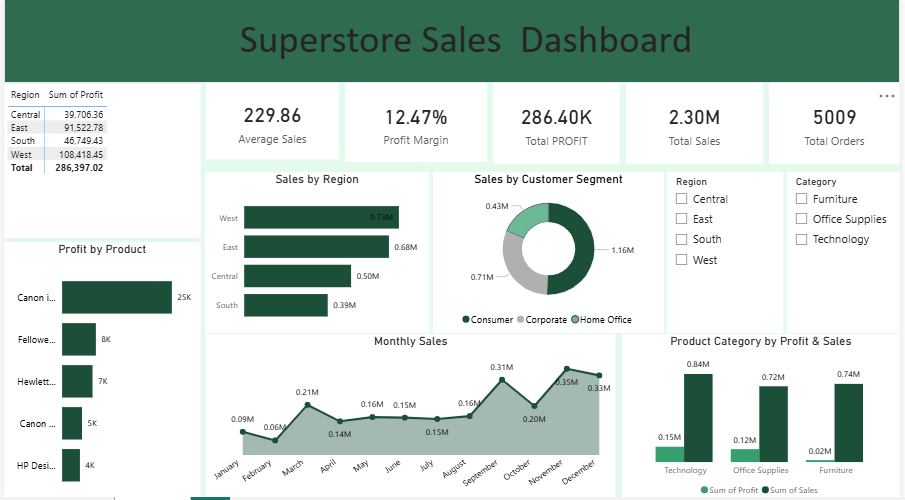

The page's visual inventory and layout, read from the dashboard file:
{"tool":"powerbi","page":{"name":"Page 1","canvas":[1280,720],"ordinal":0},"visuals":[{"type":"card","fields":{"Values":["Sample - Superstore.Total Order Id"]},"box":[1092.8,120.5,187.1,114.8],"z":0},{"type":"card","fields":{"Values":["Sample - Superstore.Total PROFIT"]},"box":[698.7,120.5,181.4,114.8],"z":1000},{"type":"card","fields":{"Values":["Sample - Superstore.Total Sales"]},"box":[888.7,120.5,195.6,114.8],"z":2000},{"type":"lineChart","title":"Monthly Sales ","fields":{"Category":["Sample - Superstore.Order Date.Variation.Date Hierarchy.Month"],"Y":["Sum(Sample - Superstore.Sales)"]},"box":[289.1,479.1,585.4,240.9],"z":3000},{"type":"barChart","title":"Sales by Region","fields":{"Category":["Sample - Superstore.Region"],"Y":["Sum(Sample - Superstore.Sales)"]},"box":[287.7,246.6,320.3,229.6],"z":4000},{"type":"donutChart","title":"Sales by Customer  Segment","fields":{"Category":["Sample - Superstore.Segment"],"Y":["Sum(Sample - Superstore.Sales)"]},"box":[612.8,246.6,330.2,229.6],"z":5000},{"type":"clusteredColumnChart","title":"Product Category by Profit & Sales ","fields":{"Category":["Sample - Superstore.Category"],"Y":["Sum(Sample - Superstore.Profit)","Sum(Sample - Superstore.Sales)"]},"box":[883,479.1,396.9,240.9],"z":6000},{"type":"barChart","title":"Profit by Product ","fields":{"Category":["Sample - Superstore.Product Name"],"Y":["Sum(Sample - Superstore.Profit)"]},"box":[0,347.2,280.6,372.8],"z":7000},{"type":"textbox","box":[0,0,1280,120],"z":8000},{"type":"pivotTable","fields":{"Values":["Sum(Sample - Superstore.Profit)"],"Rows":["Sample - Superstore.Region"]},"box":[0,121.4,281.4,220],"z":9000},{"type":"slicer","fields":{"Values":["Sample - Superstore.Category"]},"box":[1118.3,246.6,161.6,229.6],"z":10000},{"type":"slicer","fields":{"Values":["Sample - Superstore.Region"]},"box":[947.7,246.6,165.8,229.6],"z":11000},{"type":"card","fields":{"Values":["Sample - Superstore.Profit Margin"]},"box":[487.6,120.5,202.7,113.4],"z":12000},{"type":"card","fields":{"Values":["Sample - Superstore.Average Sales"]},"box":[289.1,120.5,189.9,109.1],"z":13000}]}

Visuals, with their boxes in screenshot pixels (x1, y1, x2, y2), scaled from the page's 1280x720 canvas onto the 905x500 screenshot:
card - Sample - Superstore.Total Order Id: box(773, 84, 904, 163)
card - Sample - Superstore.Total PROFIT: box(494, 84, 622, 163)
card - Sample - Superstore.Total Sales: box(628, 84, 767, 163)
"Monthly Sales " lineChart: box(204, 333, 618, 499)
"Sales by Region" barChart: box(203, 171, 430, 331)
"Sales by Customer  Segment" donutChart: box(433, 171, 667, 331)
"Product Category by Profit & Sales " clusteredColumnChart: box(624, 333, 904, 499)
"Profit by Product " barChart: box(0, 241, 198, 499)
textbox: box(0, 0, 904, 83)
pivotTable - Sum(Sample - Superstore.Profit) x Sample - Superstore.Region: box(0, 84, 199, 237)
slicer - Sample - Superstore.Category: box(791, 171, 904, 331)
slicer - Sample - Superstore.Region: box(670, 171, 787, 331)
card - Sample - Superstore.Profit Margin: box(345, 84, 488, 162)
card - Sample - Superstore.Average Sales: box(204, 84, 339, 159)
